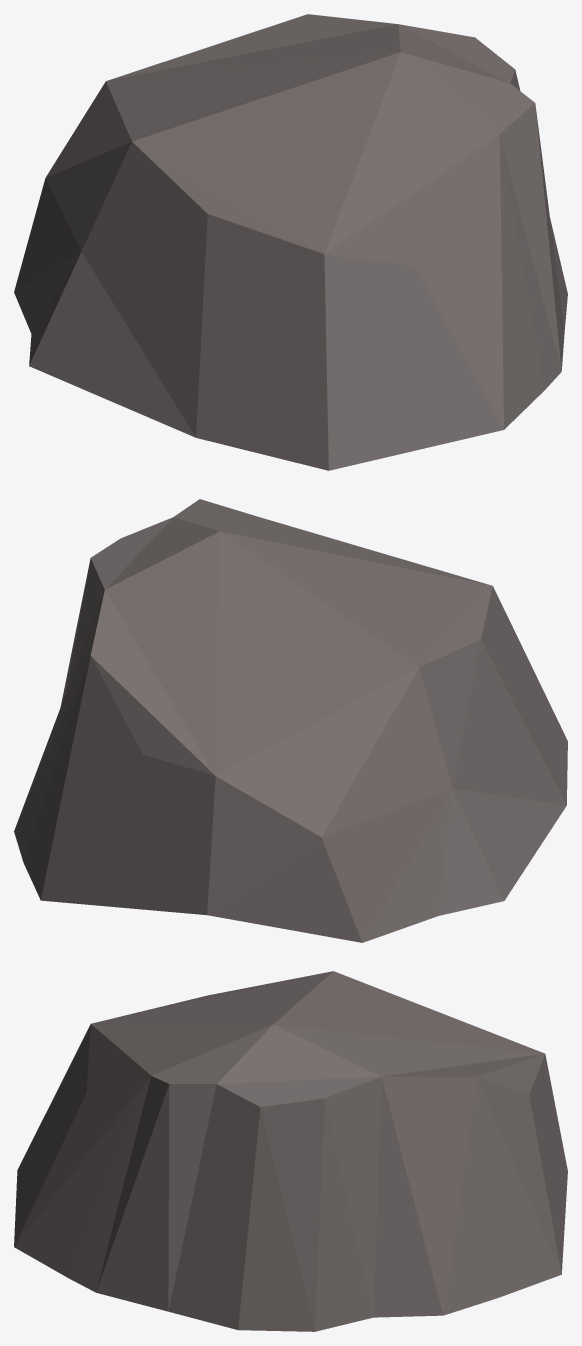
File: rock_05.FBX
3 renders of one model, top to bottom at view 1: azimuth 30°, elevation 25°; view 2: azimuth 150°, elevation 25°; view 3: azimuth 270°, elevation 25°, orthographic. The views are drawn at different scales.
Parts seen in each view (by area): view 1: rock_05; view 2: rock_05; view 3: rock_05.
Boxes of the visible parts, left/top/right/bottom form: rock_05: left=14, top=14, right=567, bottom=470; rock_05: left=14, top=499, right=567, bottom=942; rock_05: left=14, top=971, right=567, bottom=1331.
Bounding box in the file's own units: 3.11 × 1.63 × 3.4.
